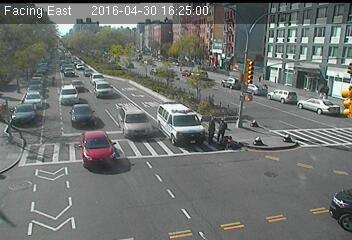neg: (171, 58, 188, 80), (306, 79, 319, 98), (222, 74, 235, 92), (259, 89, 271, 104), (50, 76, 59, 88)
pos: (195, 115, 217, 144), (214, 119, 235, 146)
